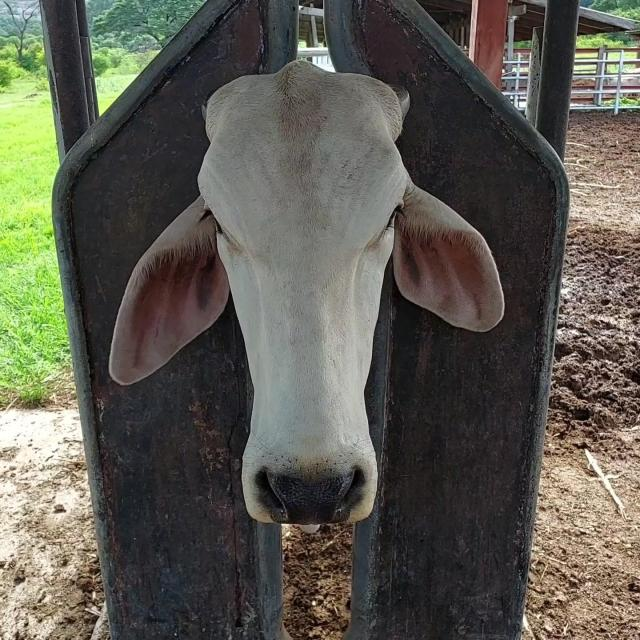cowFace: (200, 61, 402, 518)
